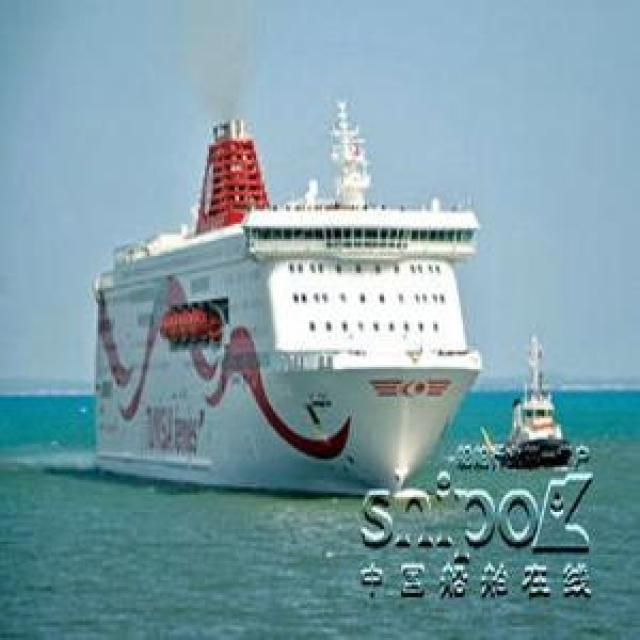houseboat: (493, 345, 568, 470)
passenger ship: (79, 100, 472, 492)
